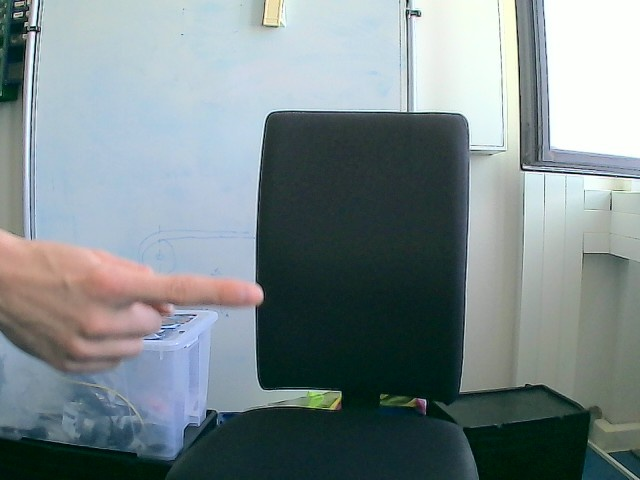left: (1, 228, 265, 376)
